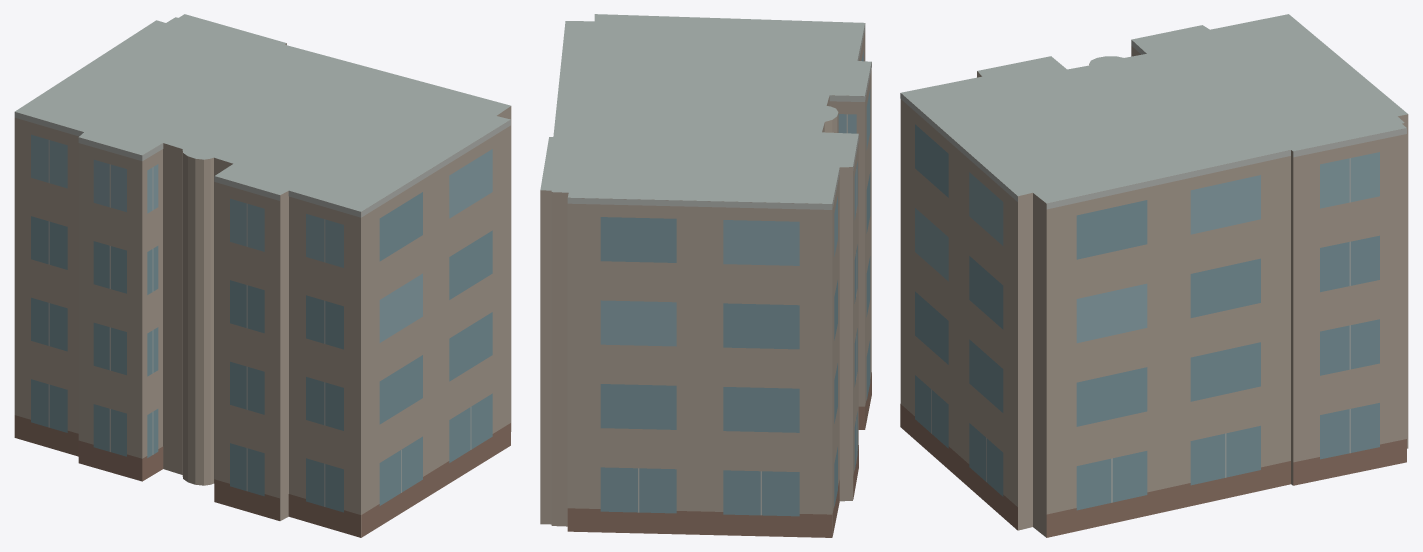
File: survey-upis-32803946.glb
The picture shows the model from 3 angles, left to right: view 1: azimuth 30°, elevation 25°; view 2: azimuth 150°, elevation 25°; view 3: azimuth 270°, elevation 25°; orthographic projection. The views are drawn at different scales.
Parts seen in each view (by area): view 1: survey-upis-32803946.tmp; view 2: survey-upis-32803946.tmp; view 3: survey-upis-32803946.tmp.
Boxes of the visible parts, <box> form: survey-upis-32803946.tmp: <box>14,14,511,537</box>; survey-upis-32803946.tmp: <box>540,14,871,537</box>; survey-upis-32803946.tmp: <box>900,14,1408,537</box>.
Size of the model in its own units: 16.54 by 13.6 by 18.73.
